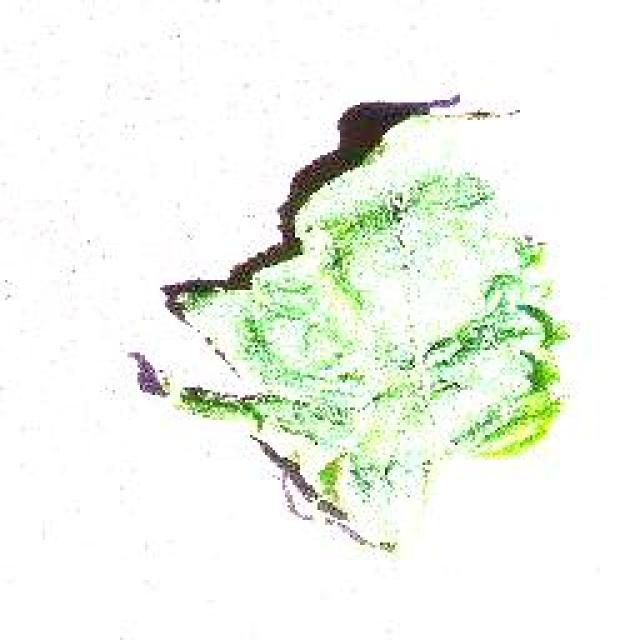Tomato___Tomato_mosaic_virus: (165, 112, 568, 548)
